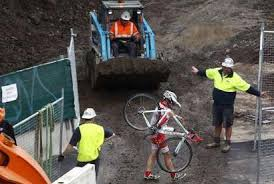hard hat: (81, 108, 97, 119), (222, 57, 233, 69), (120, 10, 132, 21)
high-vis: (111, 20, 138, 39)
